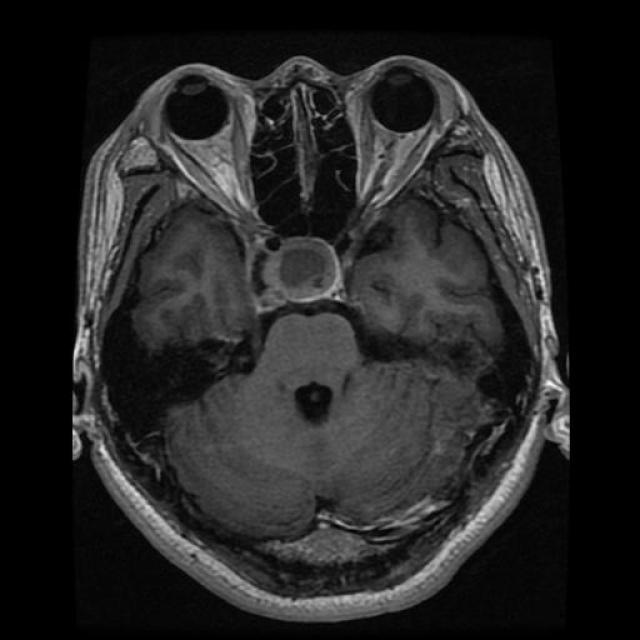pituitary: (250, 237, 360, 316)
